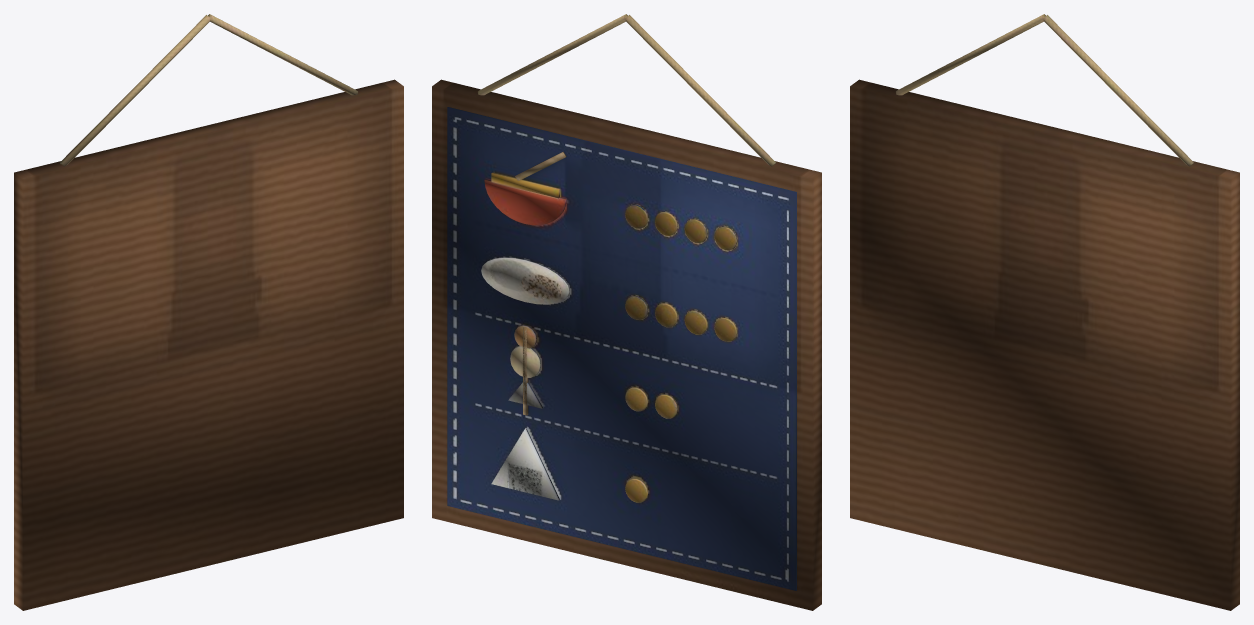
Rendered from menu_food.glb.
The picture shows the model from 3 angles, left to right: view 1: azimuth 30°, elevation 25°; view 2: azimuth 150°, elevation 25°; view 3: azimuth 330°, elevation 25°; orthographic projection.
Parts seen in each view (by area): view 1: prop_menu_food_wood, prop_menu_food_felt; view 2: prop_menu_food_felt, prop_menu_food_wood; view 3: prop_menu_food_wood, prop_menu_food_felt.
Part boxes in pixels (bbox=[...]): prop_menu_food_wood: bbox=[14, 79, 403, 610]; prop_menu_food_felt: bbox=[60, 14, 357, 166]; prop_menu_food_felt: bbox=[447, 14, 796, 590]; prop_menu_food_wood: bbox=[432, 79, 821, 610]; prop_menu_food_wood: bbox=[850, 79, 1239, 610]; prop_menu_food_felt: bbox=[896, 14, 1193, 166].
Size of the model in its own units: 1.92 by 2.63 by 0.1.
2 materials, 2 textured.
